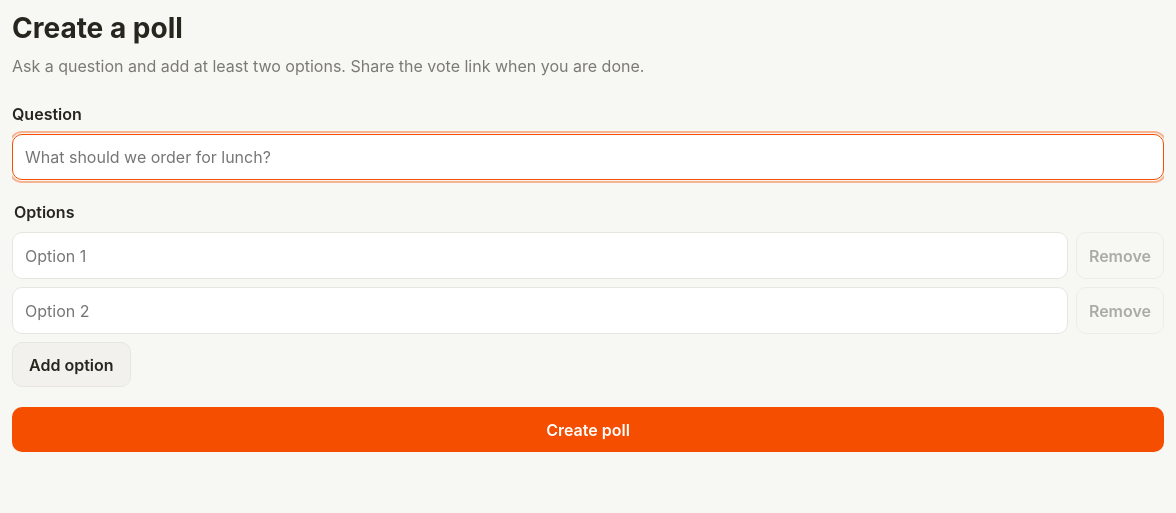
Scenario: CreatePoll › shows validation error for empty question
Click the button "Create poll": (588, 430) [12,407,1164,452]
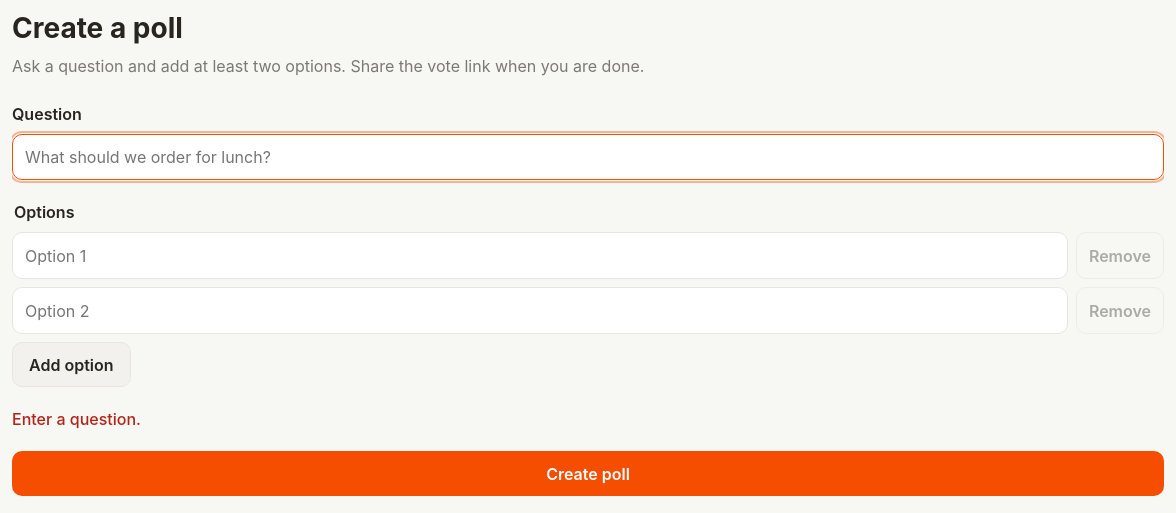
expect the message reads "Enter a question.": met, box [12,409,141,429]
